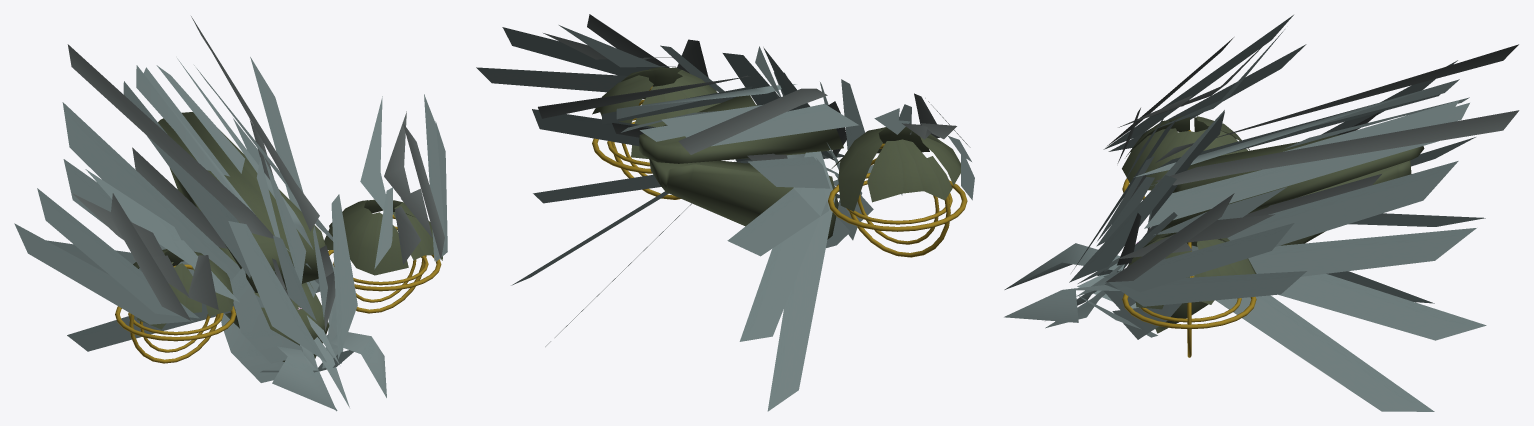
File: EnemySpear.fbx
3 renders of one model, left to right at view 1: azimuth 30°, elevation 25°; view 2: azimuth 150°, elevation 25°; view 3: azimuth 270°, elevation 25°, orthographic. The views are drawn at different scales.
Visible parts, largest first — view 1: Plane.023, Plane.022, Sphere.003, Circle.016, Circle.015, Circle.013, Circle.014; view 2: Plane.023, Sphere.003, Plane.022, Circle.016, Circle.015, Circle.013, Circle.014; view 3: Plane.023, Plane.022, Sphere.003, Circle.016, Circle.013.
Boxes of the visible parts, x1,y1,x2,y2 form: Plane.023: (14, 16, 447, 411); Plane.022: (158, 112, 329, 361); Sphere.003: (133, 199, 442, 329); Circle.016: (115, 250, 441, 341); Circle.015: (129, 214, 426, 363); Circle.013: (128, 256, 428, 335); Circle.014: (140, 226, 416, 352); Plane.023: (476, 14, 974, 411); Sphere.003: (592, 67, 960, 211); Plane.022: (639, 95, 843, 239); Circle.016: (592, 118, 967, 231); Circle.015: (611, 86, 950, 257); Circle.013: (607, 121, 952, 224); Circle.014: (622, 99, 939, 244); Plane.023: (1004, 15, 1519, 411); Plane.022: (1155, 134, 1424, 333); Sphere.003: (1122, 116, 1256, 309); Circle.016: (1122, 178, 1256, 329); Circle.013: (1140, 196, 1241, 322).
Size of the model in its own units: 8.07 by 4.64 by 7.74.
